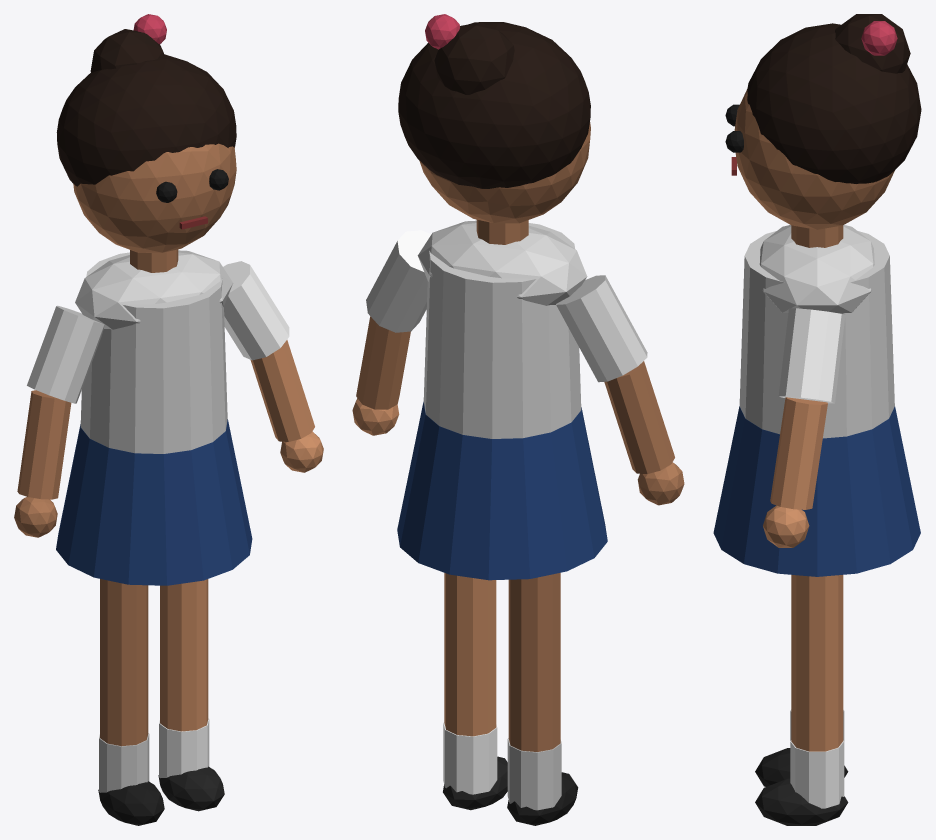
Rendered from riya.glb.
3 renders of one model, left to right at view 1: azimuth 30°, elevation 25°; view 2: azimuth 150°, elevation 25°; view 3: azimuth 270°, elevation 25°, orthographic. The views are drawn at different scales.
Visible parts, largest first — view 1: riya, riya-leg, riya-arm; view 2: riya, riya-leg, riya-arm; view 3: riya, riya-leg, riya-arm.
Boxes of the visible parts, bbox=[...] form: riya: bbox=[14, 14, 252, 825]; riya-leg: bbox=[158, 579, 224, 811]; riya-arm: bbox=[223, 261, 323, 472]; riya: bbox=[397, 14, 684, 825]; riya-leg: bbox=[443, 573, 507, 810]; riya-arm: bbox=[352, 230, 431, 435]; riya: bbox=[713, 14, 921, 786]; riya-leg: bbox=[755, 575, 848, 825]; riya-arm: bbox=[763, 308, 845, 547].
Size of the model in its own units: 0.7056 by 1.7 by 0.4009.
